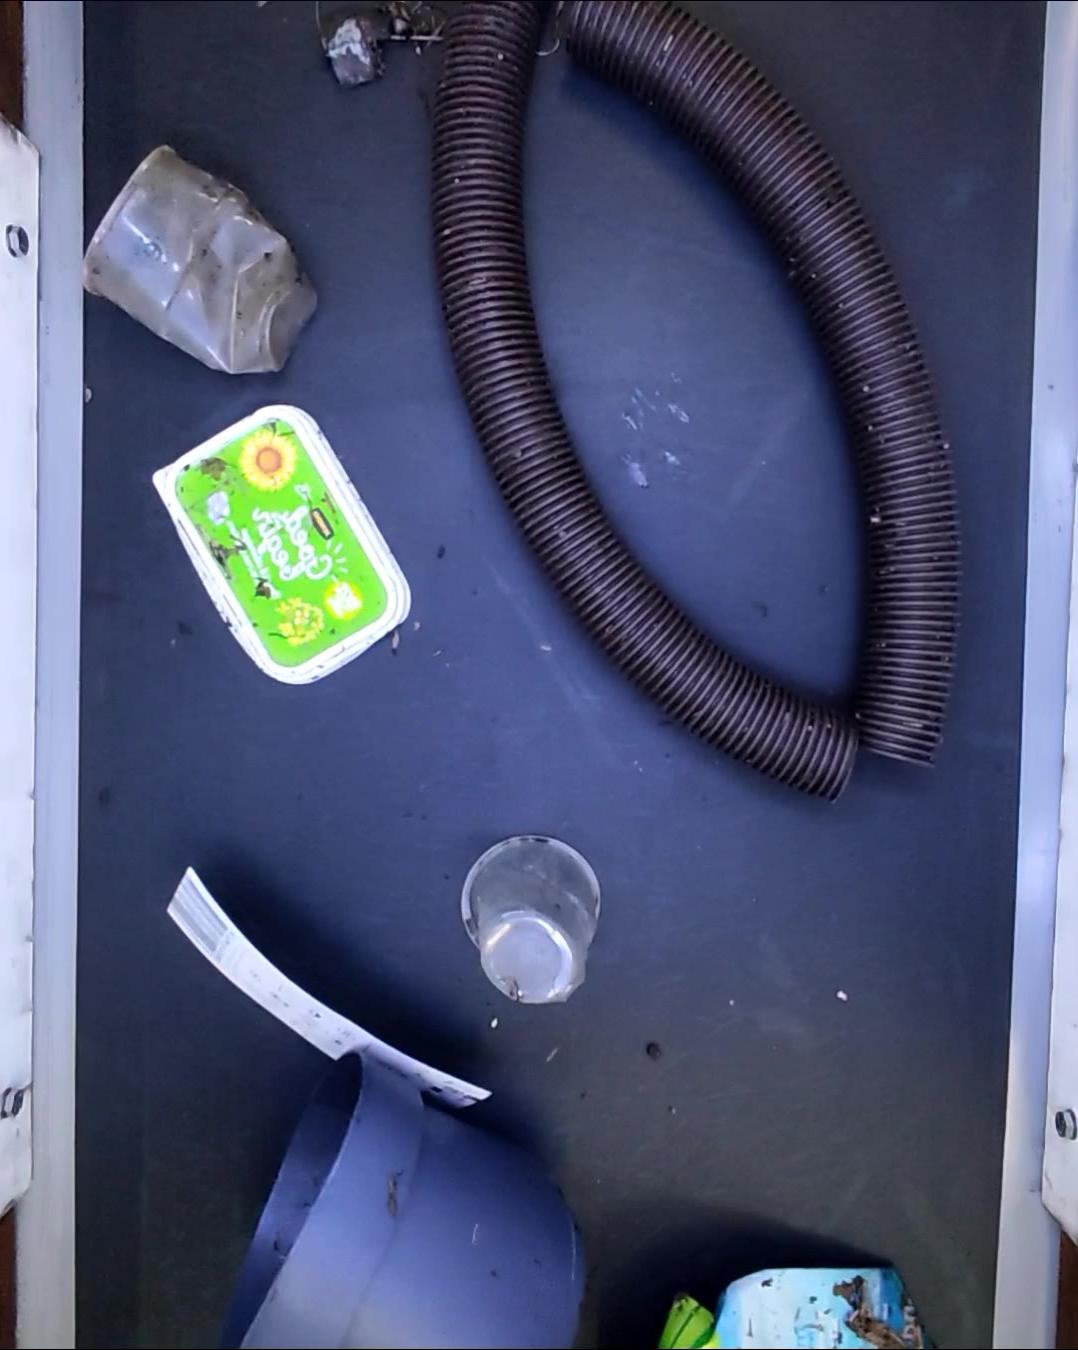Voedselverpakkingen: (154, 404, 418, 696)
